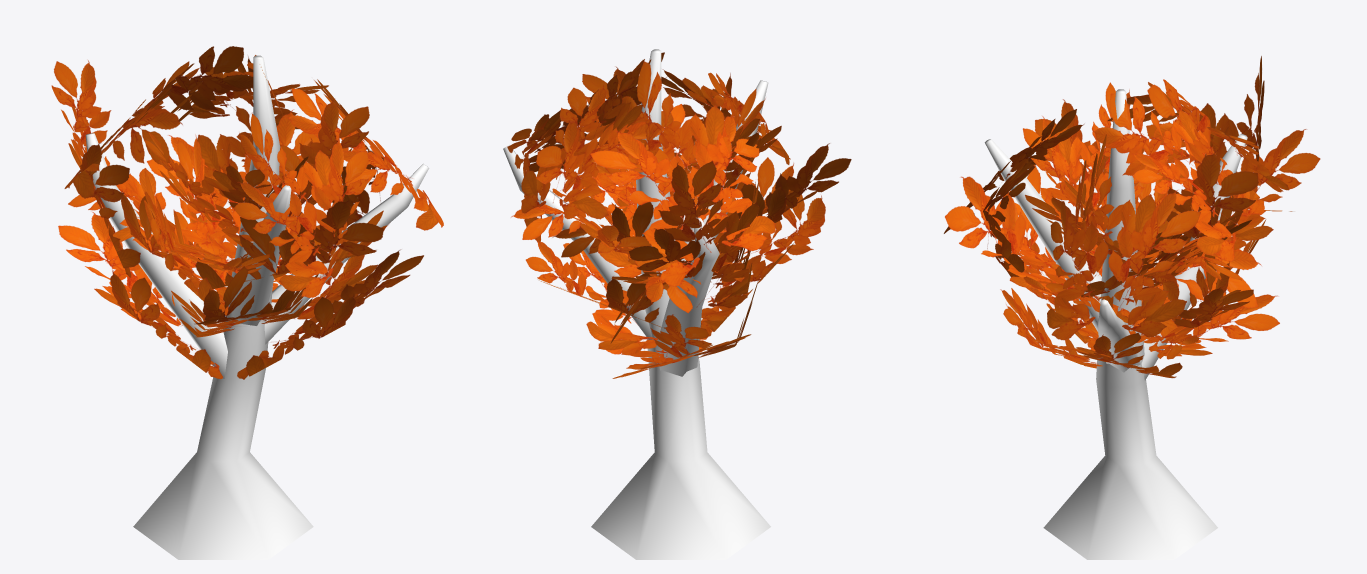
The model's file is stklib_autumnTree_c_high.glb.
The picture shows the model from 3 angles, left to right: view 1: azimuth 30°, elevation 25°; view 2: azimuth 150°, elevation 25°; view 3: azimuth 270°, elevation 25°; orthographic projection. The views are drawn at different scales.
Visible parts, largest first — view 1: leaf_a.png__, stktex_treeBark_a.png__; view 2: leaf_a.png__, stktex_treeBark_a.png__; view 3: leaf_a.png__, stktex_treeBark_a.png__.
Part boxes in pixels (x1,y1,x2,y2): leaf_a.png__: (51, 46, 443, 379); stktex_treeBark_a.png__: (85, 55, 429, 559); leaf_a.png__: (507, 52, 851, 378); stktex_treeBark_a.png__: (503, 49, 770, 559); leaf_a.png__: (944, 56, 1320, 378); stktex_treeBark_a.png__: (984, 89, 1247, 559).
Size of the model in its own units: 11.24 by 16.47 by 13.31.
Materials: 2 (1 with a texture image).
